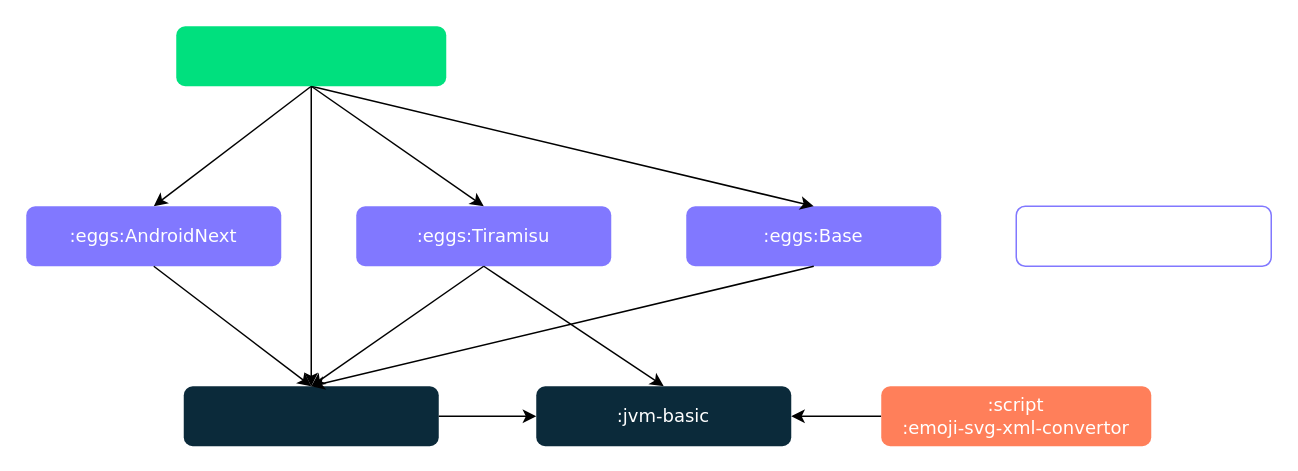
The diagram is 1298 pixels wide and 471 high, and some of its shapes have lost their labels. Here are the shapes that lost their labels. From the top down, the centre of each, then its label:
At (x=311, y=56): "app".
At (x=1143, y=235): ":eggs: ...".
At (x=310, y=416): ":basic".
